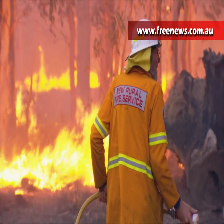fire_h: (1, 98, 109, 189), (24, 47, 100, 93), (15, 81, 25, 126), (27, 94, 37, 136)
fire_l: (161, 73, 174, 94), (14, 189, 24, 195), (177, 162, 184, 170), (117, 63, 121, 76), (165, 149, 170, 159), (112, 57, 115, 72), (107, 72, 110, 77)
